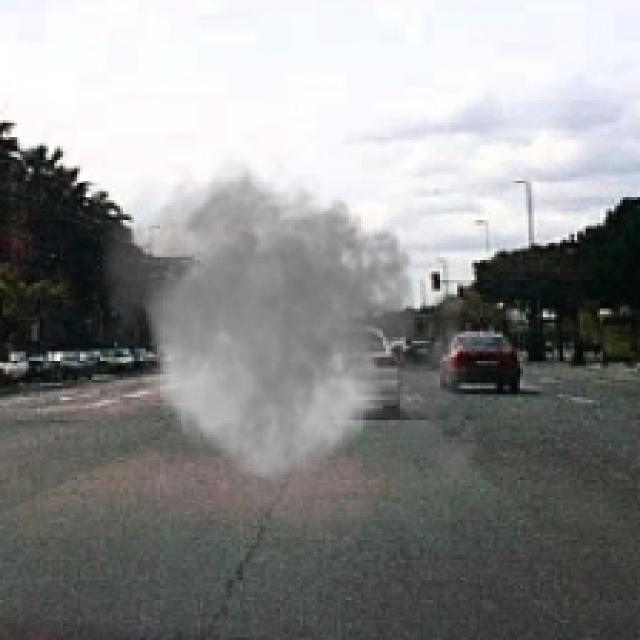Smoke: (86, 146, 492, 552)
